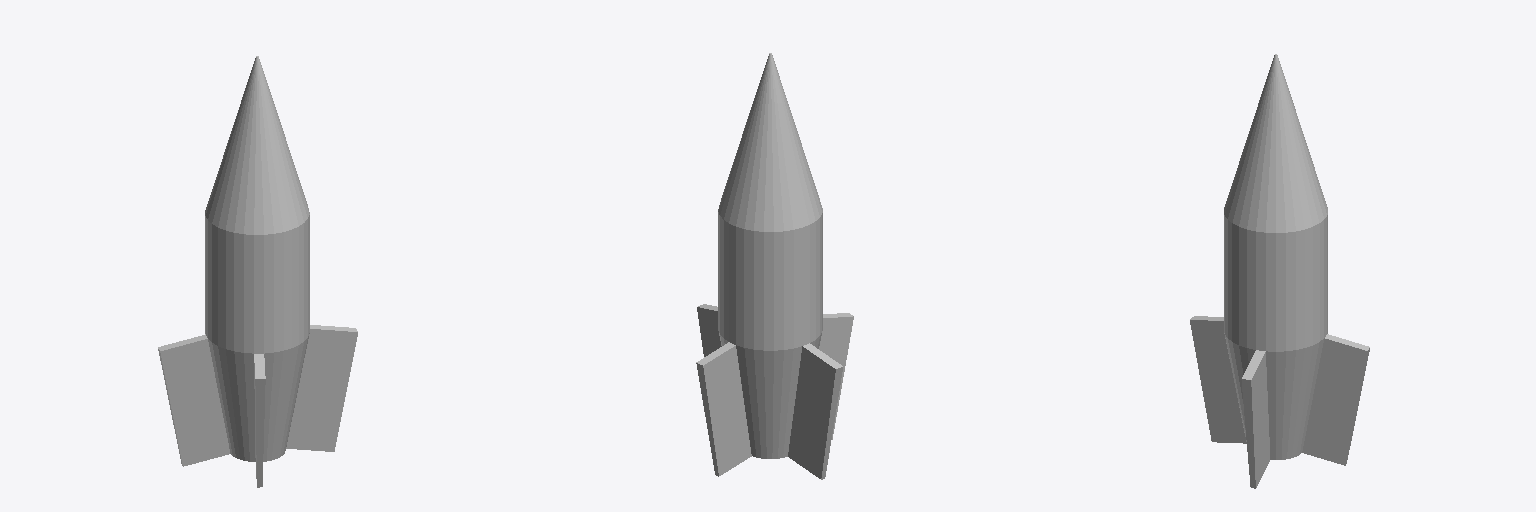
Rendered from missile.obj.
3 views of the same model, side by side, from view 1: azimuth 30°, elevation 25°; view 2: azimuth 150°, elevation 25°; view 3: azimuth 270°, elevation 25° (orthographic).
Parts seen in each view (by area): view 1: Cylinder; view 2: Cylinder; view 3: Cylinder.
Part boxes in pixels (x1,y1,x2,y2): Cylinder: (158, 56, 357, 487); Cylinder: (696, 53, 853, 479); Cylinder: (1190, 54, 1369, 488).
Bounding box in the file's own units: 46.97 × 105 × 42.94.